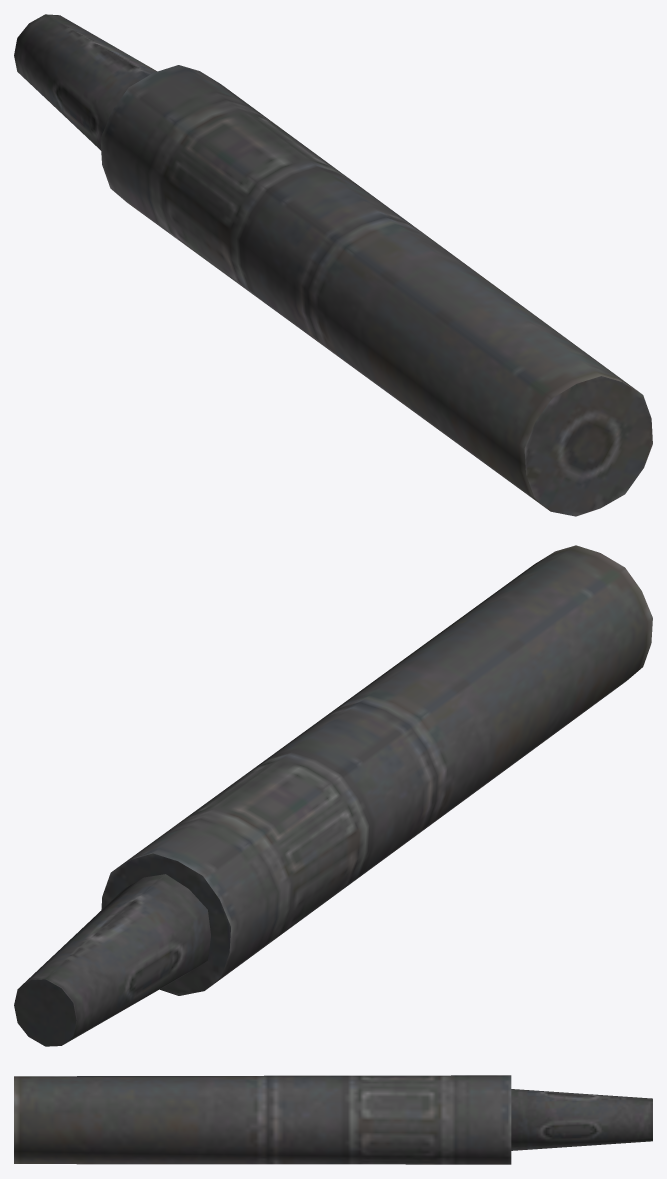
The model's file is SMG_cfq_xsq_01_Stock_Main_(000842).glb.
The picture shows the model from 3 angles, top to bottom: view 1: azimuth 30°, elevation 25°; view 2: azimuth 150°, elevation 25°; view 3: azimuth 270°, elevation 25°; orthographic projection. The views are drawn at different scales.
Visible parts, largest first — view 1: cfq_xsq_01; view 2: cfq_xsq_01; view 3: cfq_xsq_01.
Boxes of the visible parts, x1,y1,x2,y2 form: cfq_xsq_01: (14, 14, 652, 516); cfq_xsq_01: (14, 545, 652, 1046); cfq_xsq_01: (14, 1075, 652, 1164).
Size of the model in its own units: 0.054 by 0.054 by 0.3897.
Materials: 1 (1 with a texture image).
